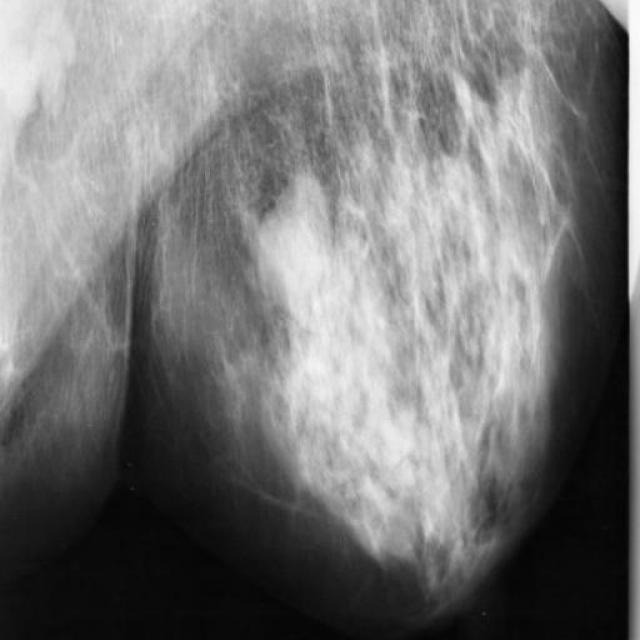cancer: (265, 342, 323, 438)
